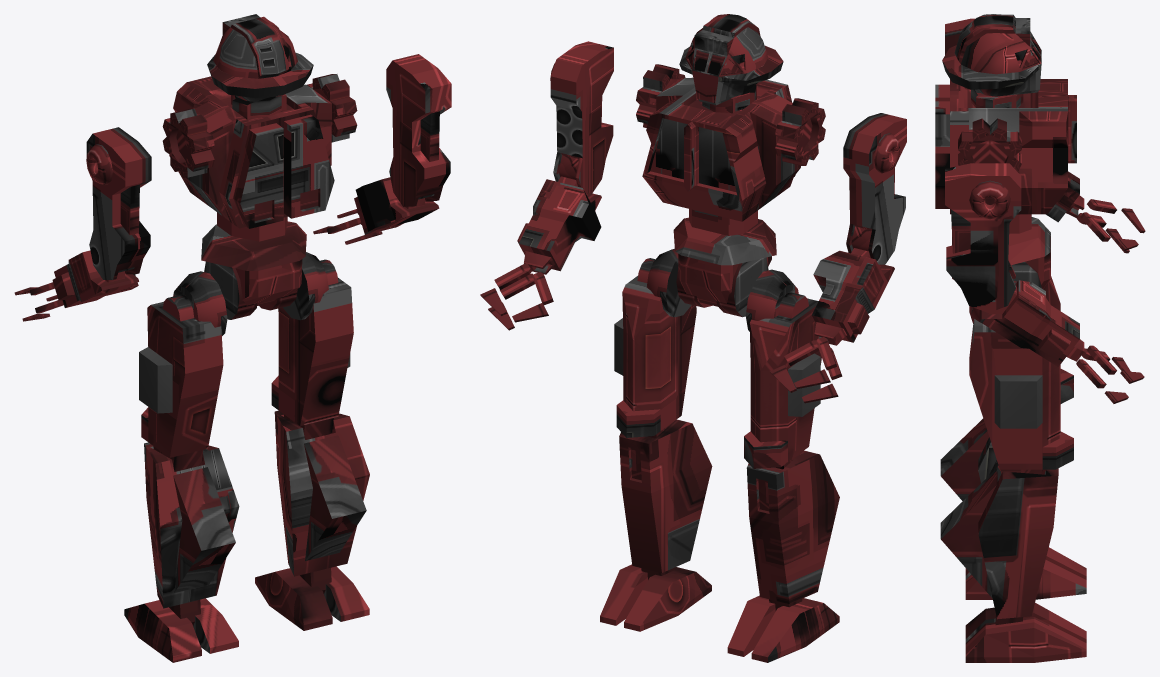
Rendered from Javelin_ex.FBX.
The picture shows the model from 3 angles, left to right: view 1: azimuth 30°, elevation 25°; view 2: azimuth 150°, elevation 25°; view 3: azimuth 270°, elevation 25°; orthographic projection. The views are drawn at different scales.
Visible parts, largest first — view 1: torso, rupperleg, llowerleg, rlowerleg, lupperleg, rupperarm, lupperarm, pelvis, lfoot, rfoot, rlowerarm, llowerarm (+1 smaller); view 2: torso, lupperleg, rupperleg, llowerleg, rlowerleg, lupperarm, rupperarm, pelvis, rlowerarm, rfoot, lfoot, llowerarm (+2 smaller); view 3: torso, llowerleg, lupperleg, lupperarm, lfoot, llowerarm, rlowerleg, rfoot, pelvis, lhand, rhand, rupperleg (+2 smaller).
Part boxes in pixels (x1,y1,x2,y2): torso: (162,14,357,241); rupperleg: (139,271,227,471); llowerleg: (274,410,369,593); rlowerleg: (144,442,239,625); lupperleg: (271,252,353,439); rupperarm: (86,127,151,279); lupperarm: (386,54,451,206); pelvis: (201,221,306,319); lfoot: (255,566,369,630); rfoot: (124,598,238,662); rlowerarm: (52,250,138,307); llowerarm: (354,177,439,234); torso: (636,14,825,235); lupperleg: (614,249,696,438); rupperleg: (744,269,821,469); llowerleg: (619,419,712,579); rlowerleg: (746,450,839,610); lupperarm: (550,41,613,193); rupperarm: (843,113,906,264); pelvis: (673,217,776,317); rlowerarm: (811,248,894,342); rfoot: (727,595,839,662); lfoot: (600,564,711,631); llowerarm: (517,176,601,271); torso: (935,14,1076,233); llowerleg: (940,460,1058,624); lupperleg: (969,281,1073,474); lupperarm: (945,163,1021,312); lfoot: (965,602,1086,662); llowerarm: (979,280,1079,366); rlowerleg: (940,418,996,501); rfoot: (965,547,1086,599); pelvis: (952,217,1050,288); lhand: (1066,339,1144,403); rhand: (1066,195,1145,253); rupperleg: (969,276,1073,403).
Size of the model in its own units: 31.74 by 51 by 16.29.
1 material, 1 textured.
